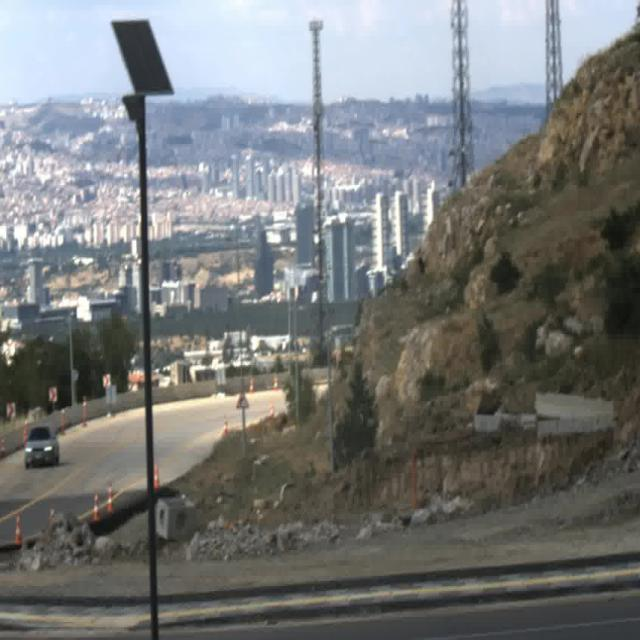Car: (25, 422, 60, 464)
